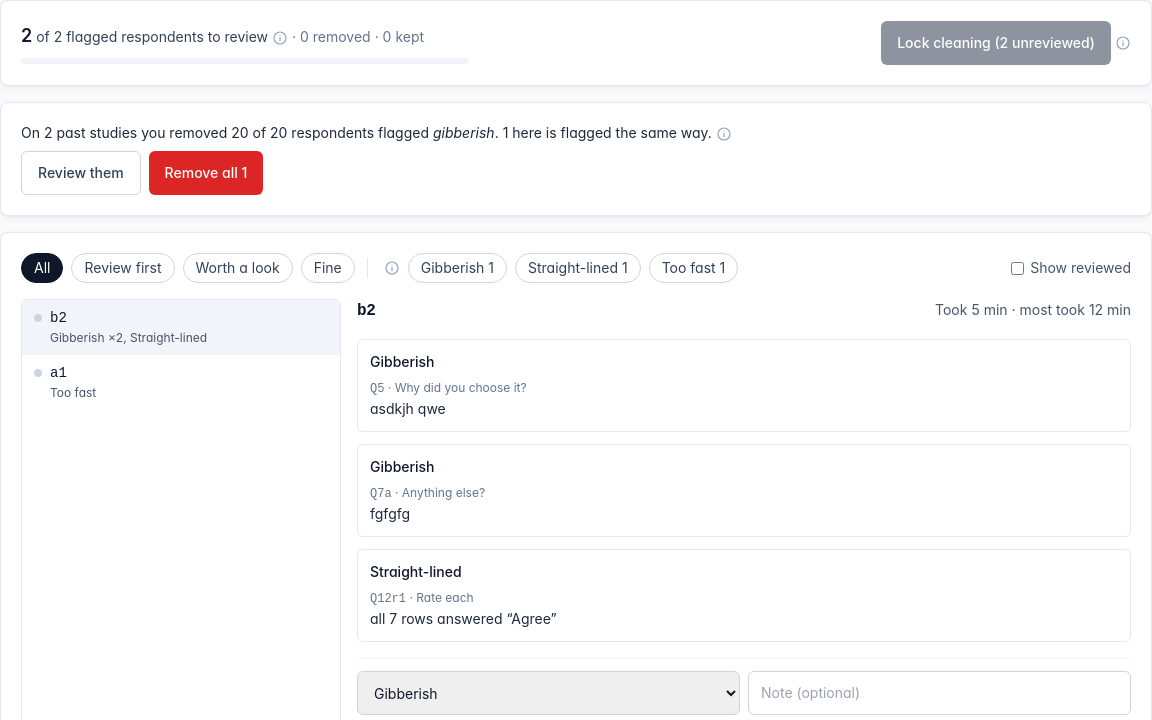
Test: CleaningPanel › "Review them" filters the list to that check
The image size is (1152, 720).
Click the button "Review them" at (81, 173), box [21,151,141,195]
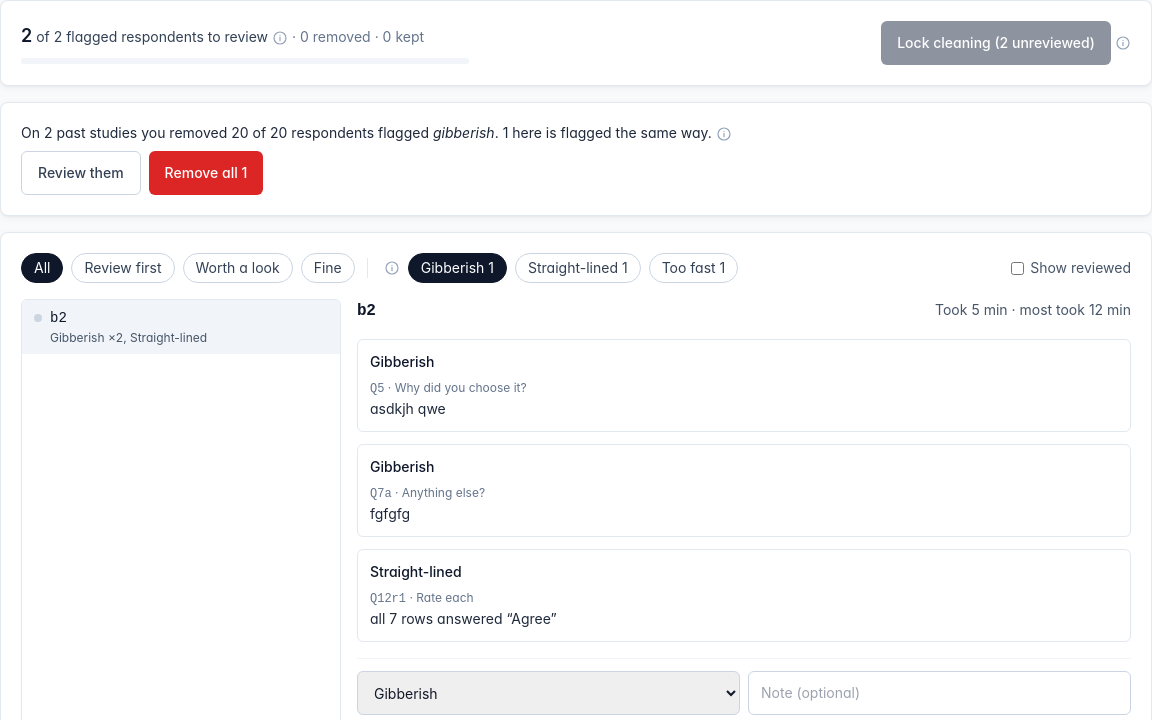
Check: the text "b2" is shown, box [50,308,67,328]
Check: the button "a1" is gone
